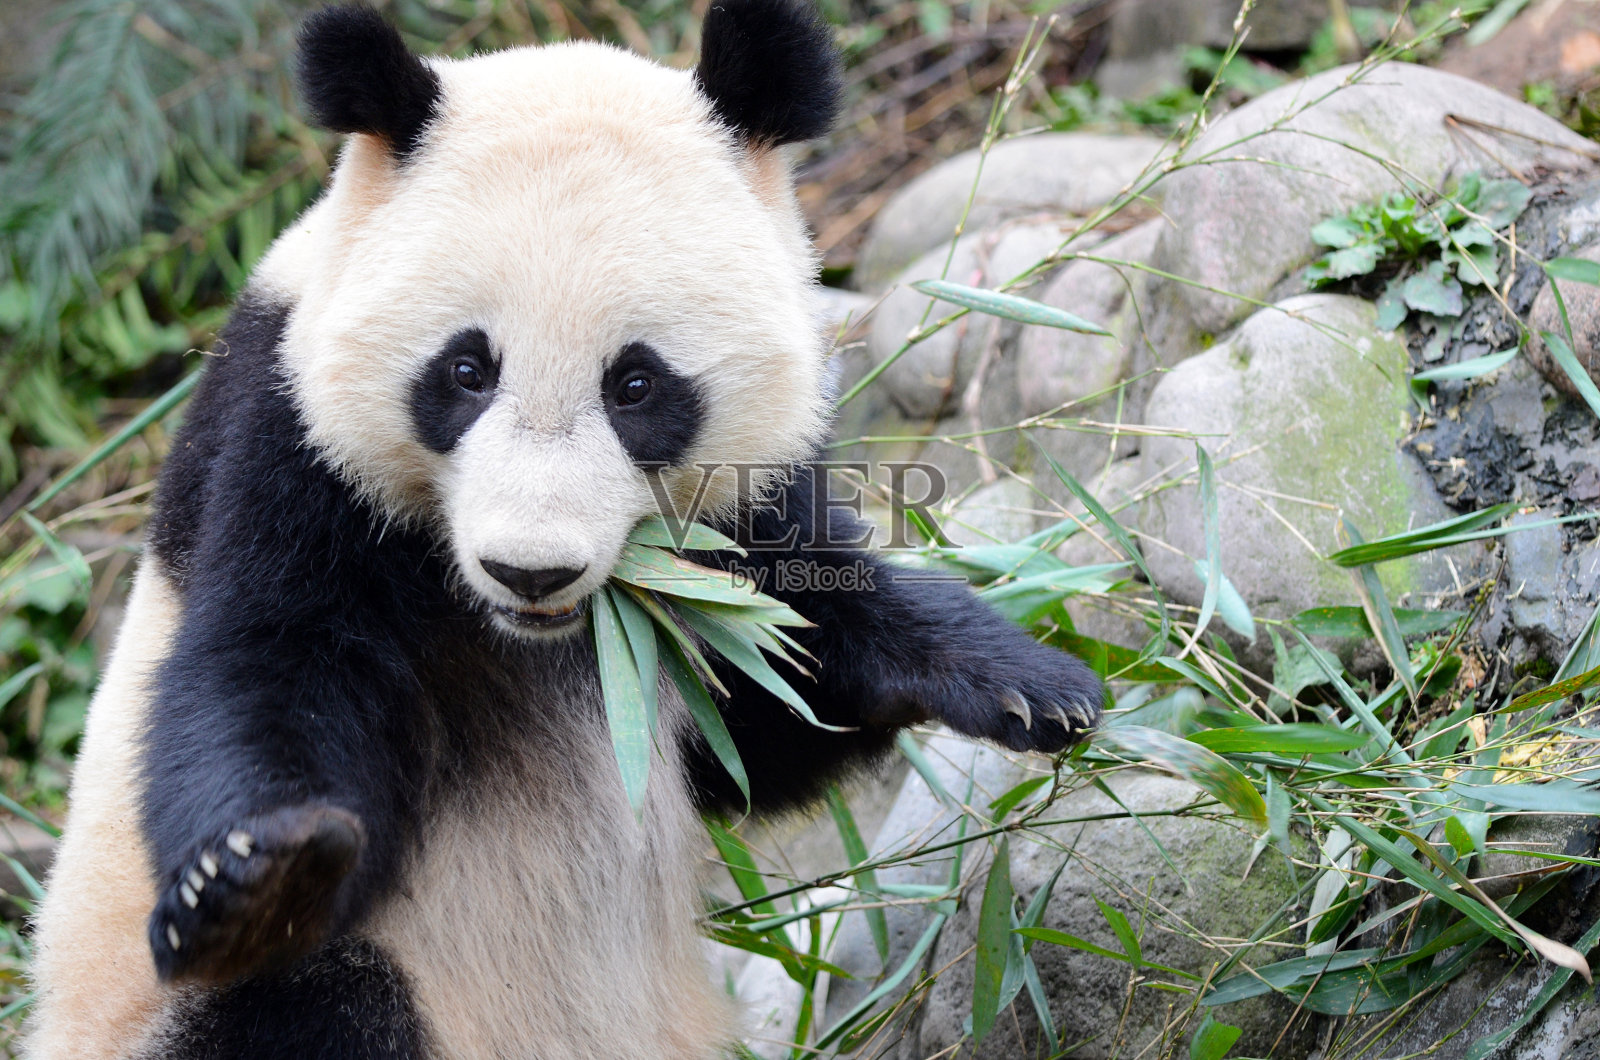panda: (53, 15, 1065, 1026)
